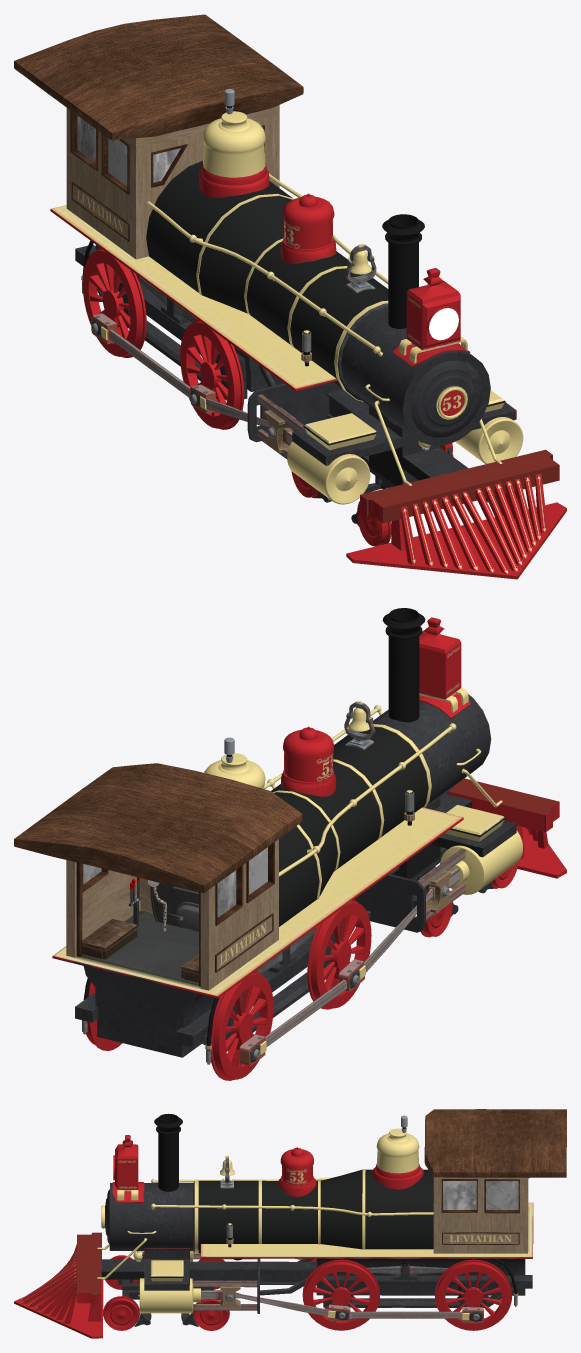
File: pingscriptforcompanion.glb
The picture shows the model from 3 angles, top to bottom: view 1: azimuth 30°, elevation 25°; view 2: azimuth 150°, elevation 25°; view 3: azimuth 270°, elevation 25°; orthographic projection. The views are drawn at different scales.
Parts seen in each view (by area): view 1: Mesh.002; view 2: Mesh.002; view 3: Mesh.002.
Boxes of the visible parts, x1,y1,x2,y2 form: Mesh.002: (14,14,566,579); Mesh.002: (14,608,566,1080); Mesh.002: (14,1109,566,1338).
Size of what is drawn, in the model's own units: 2.61 by 3.34 by 8.67.
Materials: 3 (3 with a texture image).
